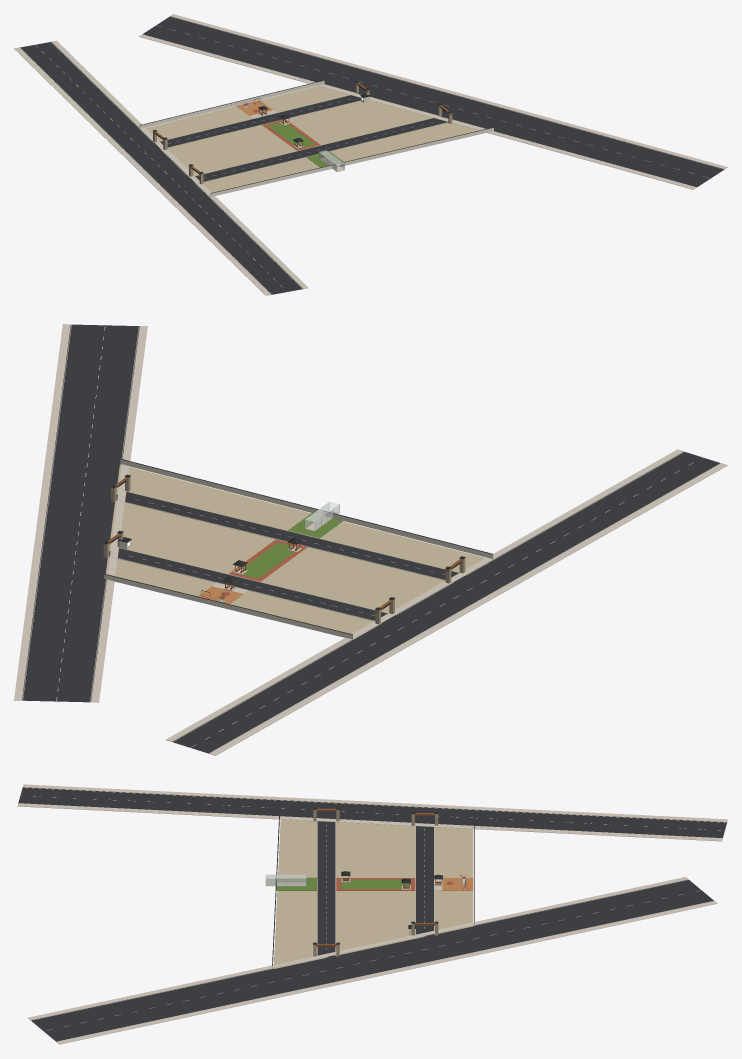
The model's file is site.glb.
The picture shows the model from 3 angles, top to bottom: view 1: azimuth 30°, elevation 25°; view 2: azimuth 150°, elevation 25°; view 3: azimuth 270°, elevation 25°; orthographic projection. The views are drawn at different scales.
Parts seen in each view (by area): view 1: site-asphalt, site-earth, site-paving, site-wall, site-paint, site-curb, site-charcoal, site-lawn; view 2: site-asphalt, site-earth, site-paving, site-wall, site-paint, site-curb, site-lawn, site-charcoal, site-stone; view 3: site-asphalt, site-earth, site-paving, site-paint, site-lawn, site-curb, site-charcoal, site-net.
Part boxes in pixels (left/top/right/bottom): site-asphalt: left=20, top=16, right=724, bottom=294; site-earth: left=140, top=84, right=486, bottom=192; site-paving: left=14, top=14, right=727, bottom=295; site-wall: left=139, top=80, right=493, bottom=196; site-paint: left=21, top=17, right=721, bottom=294; site-curb: left=155, top=93, right=447, bottom=183; site-charcoal: left=139, top=80, right=493, bottom=193; site-lawn: left=268, top=123, right=343, bottom=167; site-asphalt: left=22, top=324, right=720, bottom=753; site-earth: left=105, top=464, right=485, bottom=639; site-paving: left=14, top=324, right=727, bottom=755; site-wall: left=104, top=459, right=493, bottom=639; site-paint: left=22, top=325, right=720, bottom=752; site-curb: left=109, top=491, right=463, bottom=622; site-lawn: left=242, top=513, right=342, bottom=578; site-charcoal: left=103, top=459, right=492, bottom=634; site-stone: left=103, top=476, right=465, bottom=624; site-asphalt: left=18, top=787, right=726, bottom=1041; site-earth: left=273, top=819, right=473, bottom=968; site-paving: left=17, top=784, right=727, bottom=1044; site-paint: left=14, top=787, right=726, bottom=1041; site-lawn: left=276, top=877, right=410, bottom=890; site-curb: left=317, top=819, right=434, bottom=955; site-charcoal: left=272, top=807, right=474, bottom=965; site-net: left=265, top=874, right=306, bottom=886.
Size of the model in its own units: 241 by 5.4 by 280.
